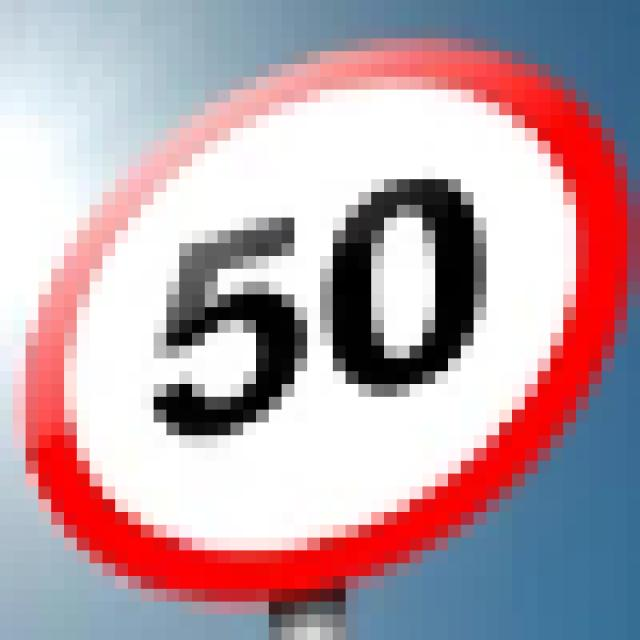Limite-50: (14, 34, 639, 606)
